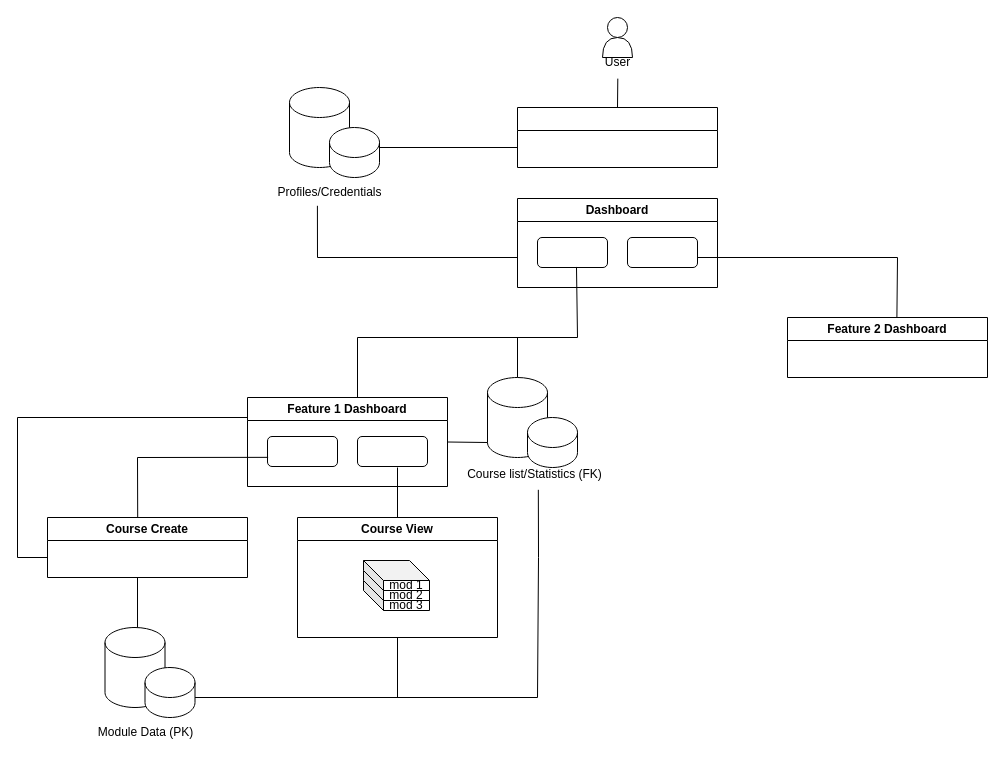
Image size: 1005x765. Some labels were removed from this diagram. The centre of each missing label's shape, as x and y in pixels:
"Create Course" goes at (302,451).
"Feature 1" goes at (572,252).
"Feature 2" goes at (662,252).
"Login/Signup" goes at (617,137).
"Select Course" goes at (392,451).
